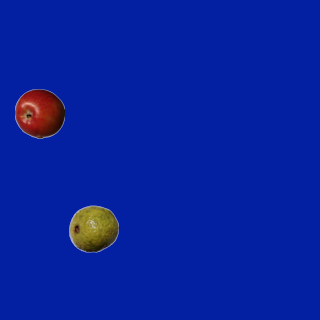Apple Braeburn: (14, 88, 64, 138)
Guava: (68, 203, 118, 253)
